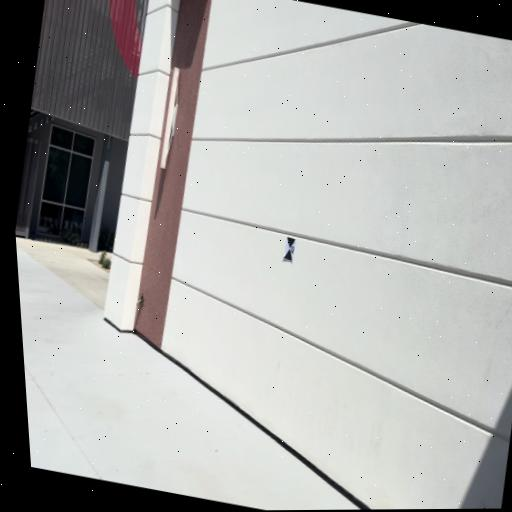target0: (283, 236, 295, 262)
